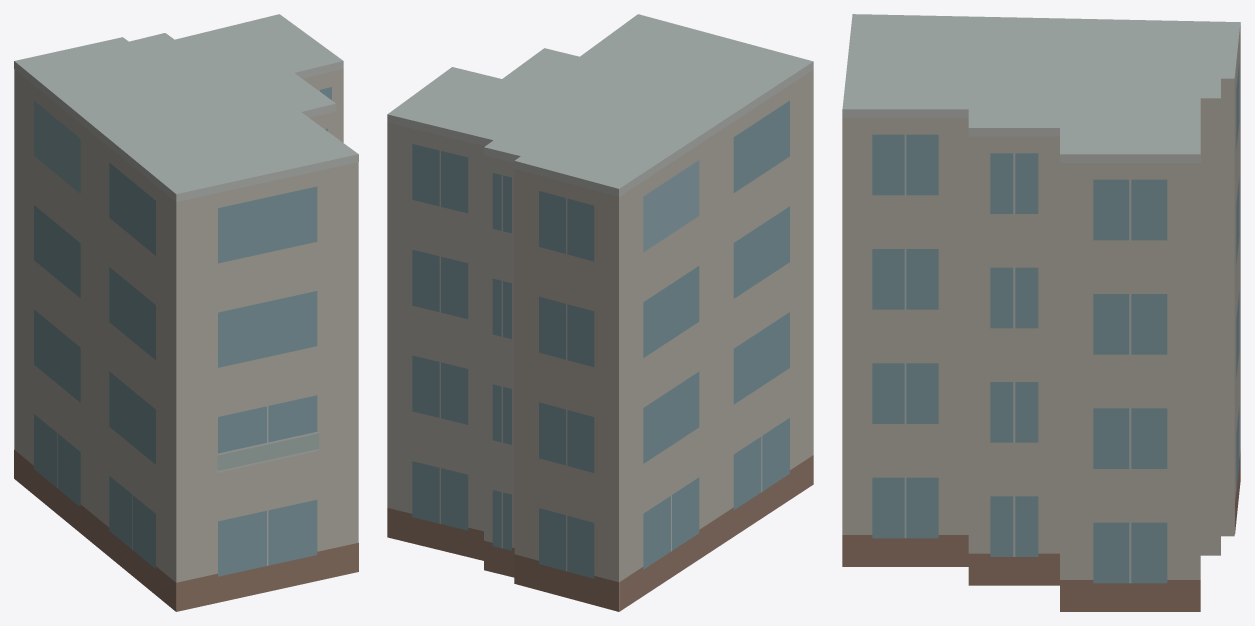
Rendered from survey-upis-32477001.glb.
3 renders of one model, left to right at view 1: azimuth 30°, elevation 25°; view 2: azimuth 150°, elevation 25°; view 3: azimuth 270°, elevation 25°, orthographic. The views are drawn at different scales.
Visible parts, largest first — view 1: survey-upis-32477001.tmp; view 2: survey-upis-32477001.tmp; view 3: survey-upis-32477001.tmp.
Boxes of the visible parts, box(x1,y1,x2,y2) form: survey-upis-32477001.tmp: box(14, 14, 358, 611); survey-upis-32477001.tmp: box(387, 14, 813, 611); survey-upis-32477001.tmp: box(842, 14, 1240, 611).
Bounding box in the file's own units: 8.55 × 13 × 10.26.
